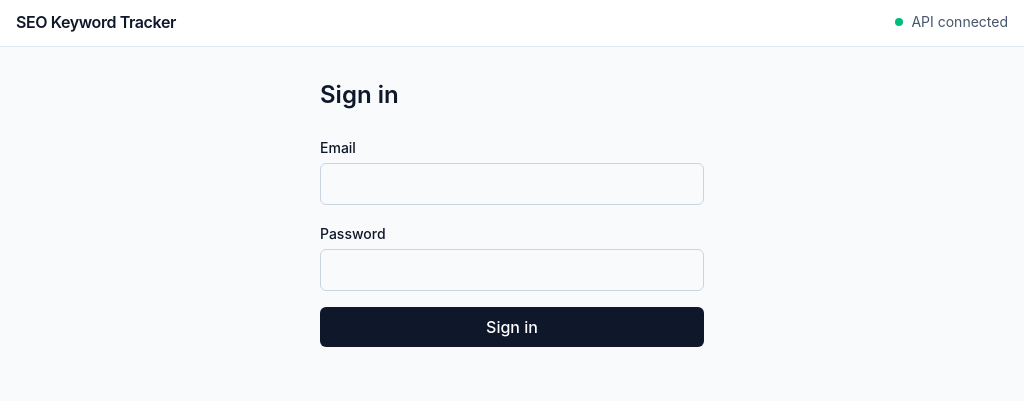
Test: sign in › explains rate limiting
In the field labelled "Email": point(512, 184) [320,163,704,205], type "alice@agency.test"
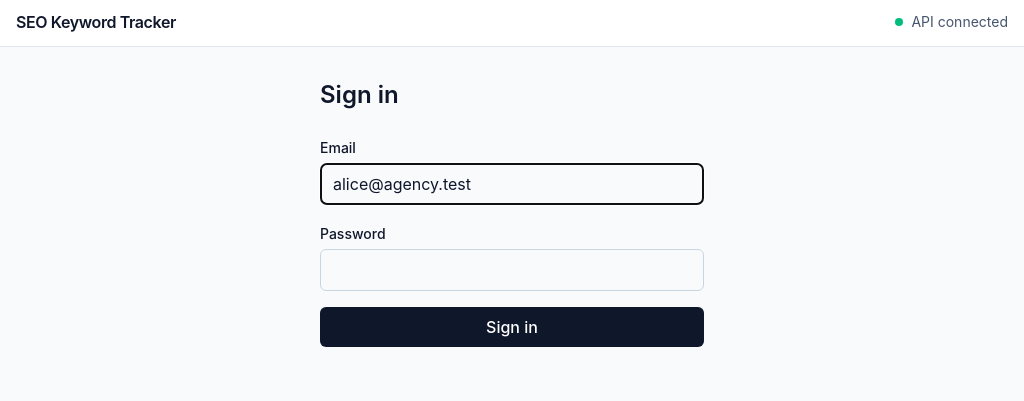
In the password field labelled "Password": point(512, 270) [320,249,704,291], type "wrong"
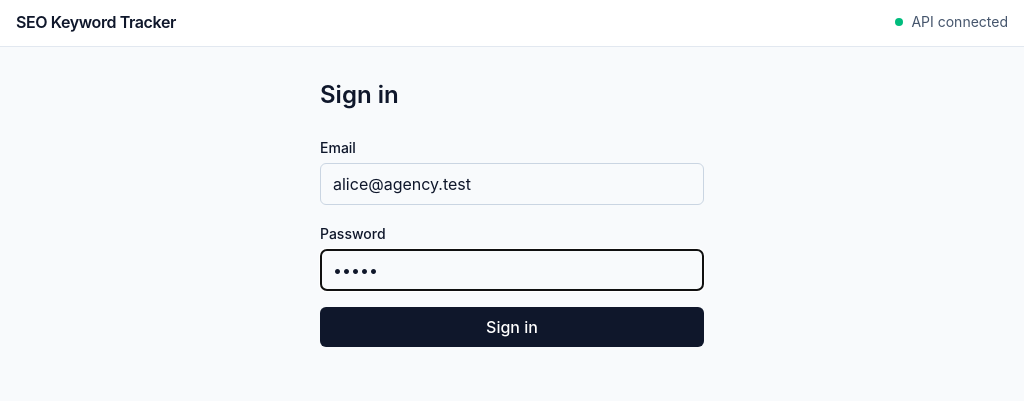
Click the button "Sign in": point(512, 327) [320,307,704,347]
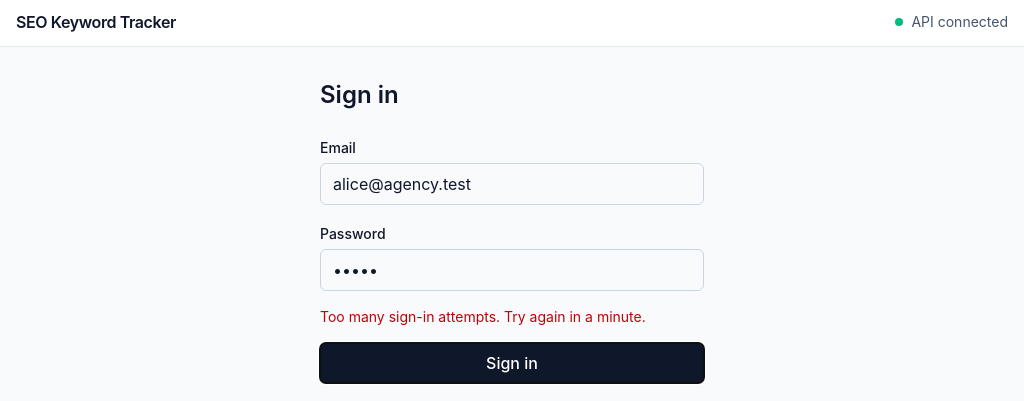
Expected: the message "Too many sign-in attempts. Try again in a minute." is shown, [320,308,646,325]
